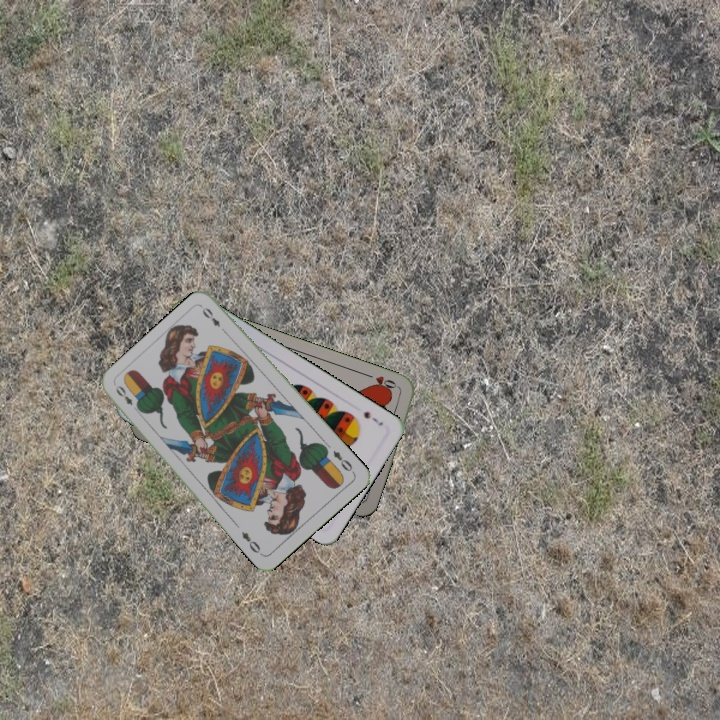EO: (111, 381, 142, 415), (329, 446, 355, 474)
HO: (362, 370, 402, 394)
S7: (360, 407, 386, 428)
